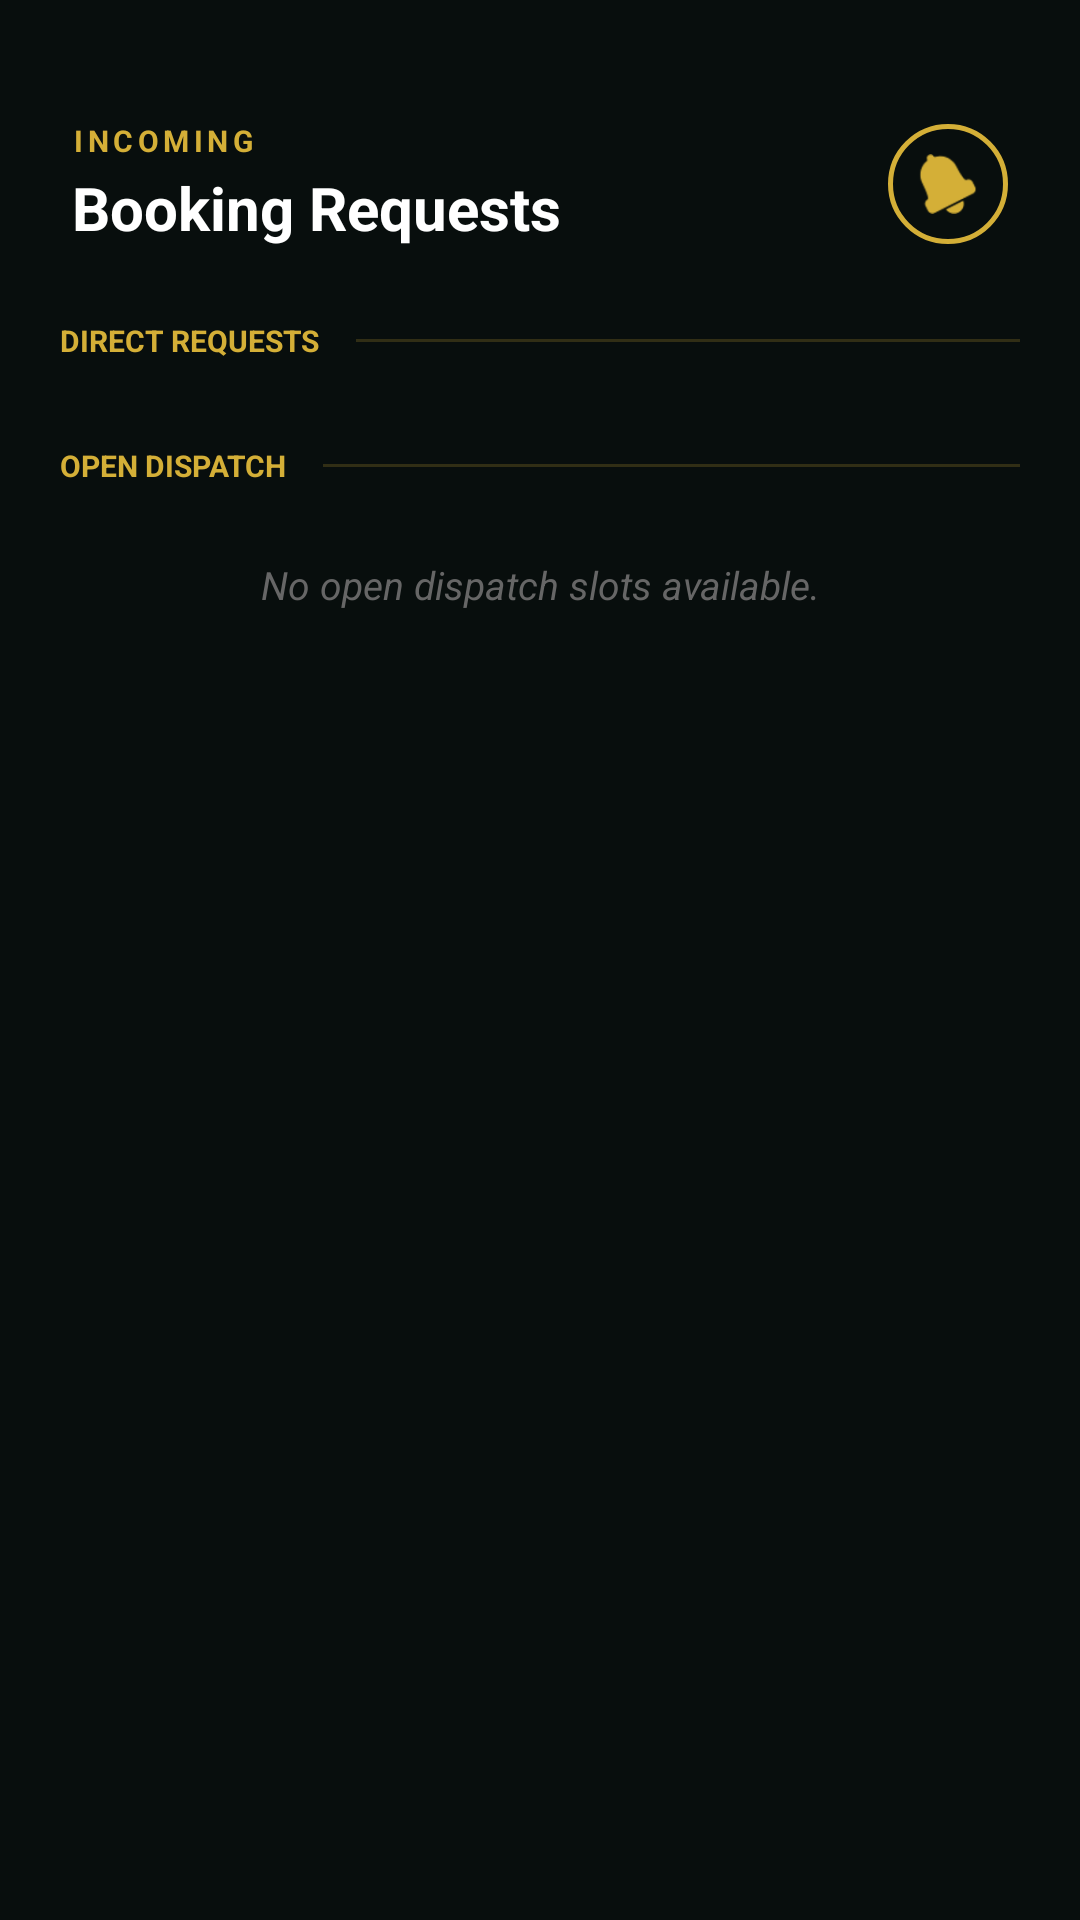

Where to tap for icons on this 1080x1920 app screen, as (x=x, y=y):
popup reminder: (x=948, y=184)
